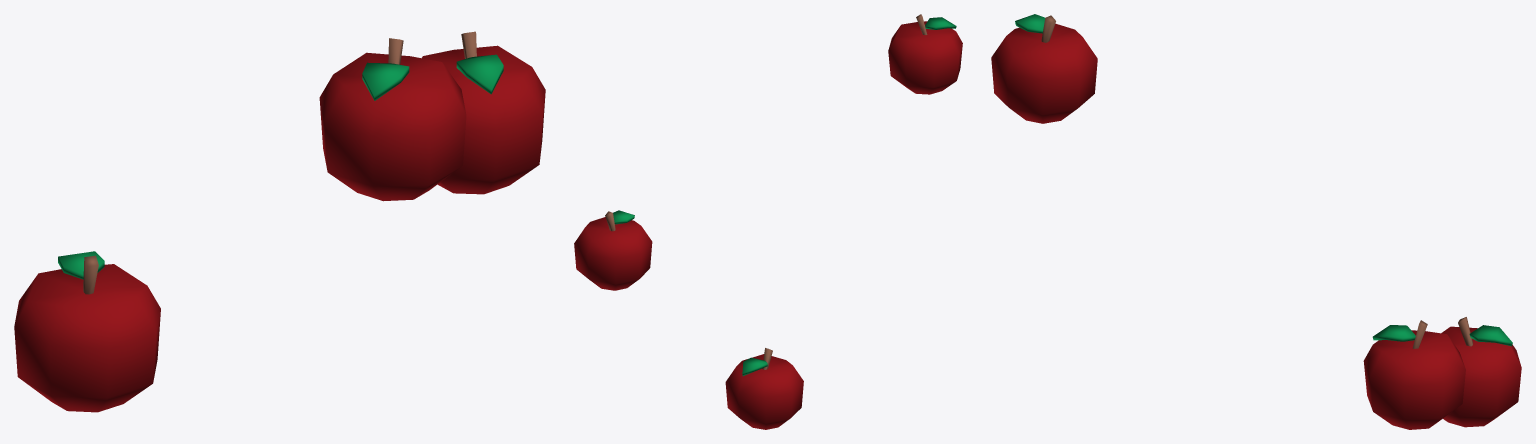
File: tree_apples_2.glb
3 renders of one model, left to right at view 1: azimuth 30°, elevation 25°; view 2: azimuth 150°, elevation 25°; view 3: azimuth 270°, elevation 25°, orthographic. The views are drawn at different scales.
Parts seen in each view (by area): view 1: Apples_2; view 2: Apples_2; view 3: Apples_2.
Boxes of the visible parts, x1,y1,x2,y2 form: Apples_2: (14, 31, 545, 412); Apples_2: (574, 14, 962, 429); Apples_2: (991, 14, 1521, 429).
Size of the model in its own units: 0.9308 by 1.08 by 1.3.
1 material, 1 textured.
